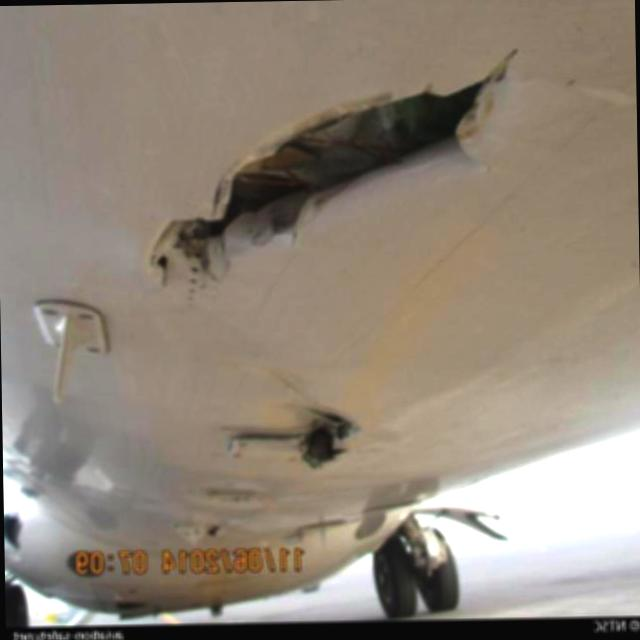crack: (143, 52, 522, 300)
